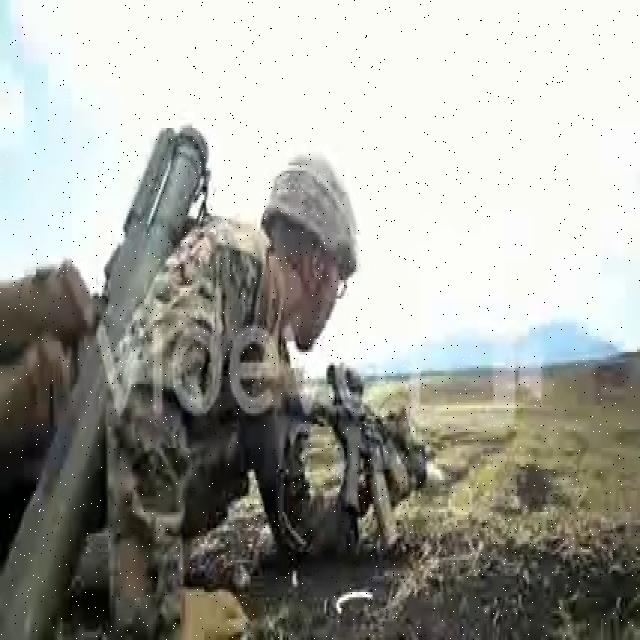bazooka: (1, 114, 215, 640)
